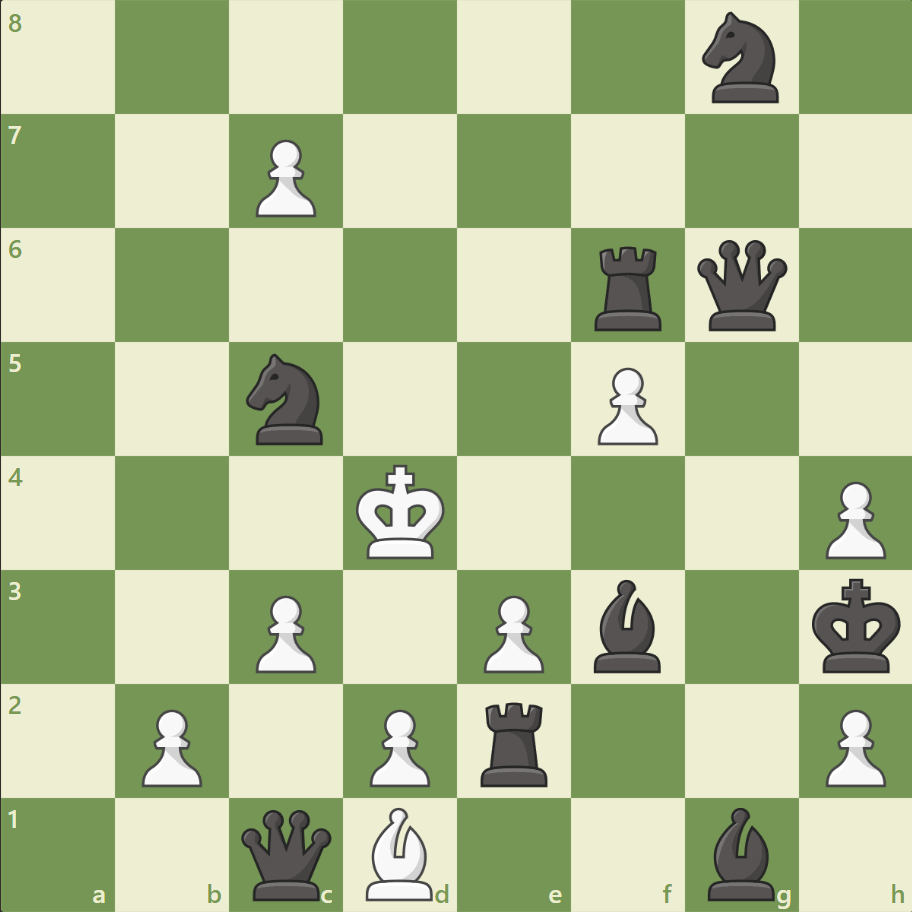B: (358, 801, 442, 904)
K: (351, 458, 451, 566)
P: (247, 132, 322, 223), (247, 586, 322, 677), (474, 586, 549, 677), (133, 700, 208, 791), (588, 359, 662, 450), (815, 473, 889, 564), (361, 700, 435, 791), (815, 700, 889, 791)
b: (698, 801, 782, 904), (585, 574, 669, 676)
k: (806, 571, 906, 679)
n: (692, 7, 789, 110), (238, 348, 335, 450)
q: (691, 236, 790, 335), (237, 804, 336, 903)
r: (587, 239, 670, 336), (473, 693, 556, 790)
